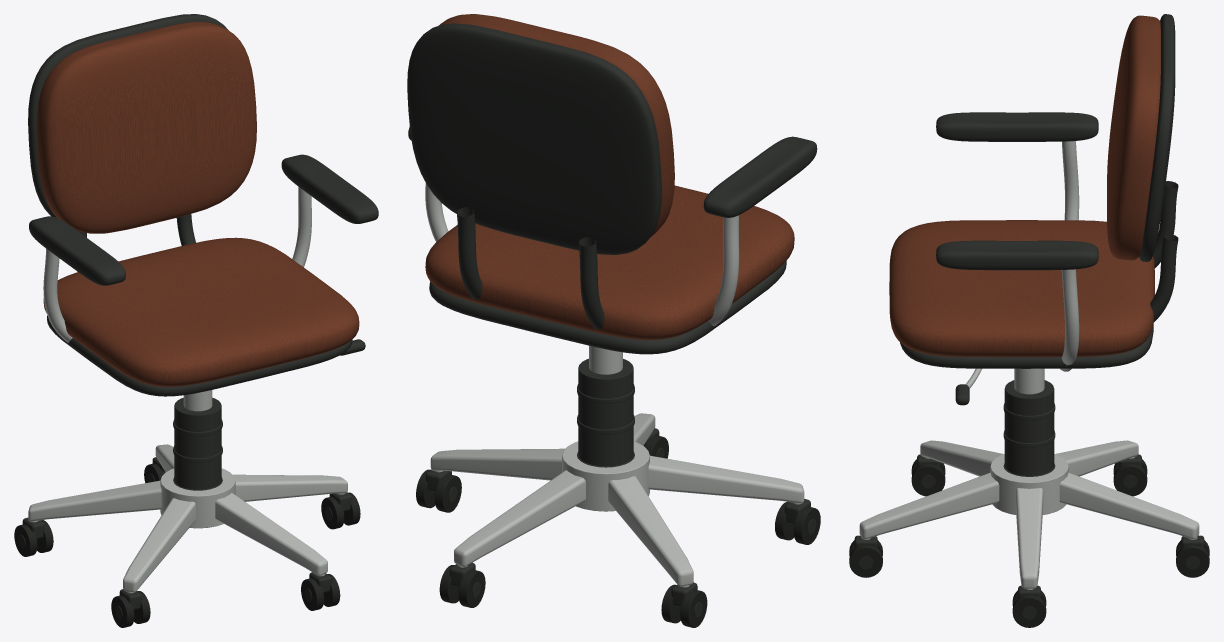
File: chair.glb
3 renders of one model, left to right at view 1: azimuth 30°, elevation 25°; view 2: azimuth 150°, elevation 25°; view 3: azimuth 270°, elevation 25°, orthographic. The views are drawn at different scales.
Parts seen in each view (by area): view 1: Upholstered backrest, Shaped upholstered seat, Column telescoping cover, Molded arm pad.001, Molded arm pad, Cast aluminum base spoke.004, Molded backrest shell, Cast aluminum base spoke.002, Molded seat shell, Cast aluminum base spoke.003, Cast aluminum base spoke, Five-star hub (+7 smaller); view 2: Molded backrest shell, Shaped upholstered seat, Upholstered backrest, Molded seat shell, Column telescoping cover, Molded arm pad, Cast aluminum base spoke.001, Cast aluminum base spoke.003, Cast aluminum base spoke.002, Cast aluminum base spoke, Five-star hub, Arm support (+9 smaller); view 3: Shaped upholstered seat, Upholstered backrest, Molded arm pad.001, Molded arm pad, Column telescoping cover, Molded backrest shell, Cast aluminum base spoke.001, Cast aluminum base spoke.004, Molded seat shell, Cast aluminum base spoke, Five-star hub, Cast aluminum base spoke.002 (+11 smaller).
Part boxes in pixels (x1,y1,x2,y2): Upholstered backrest: (36, 21, 256, 233); Shaped upholstered seat: (43, 237, 359, 386); Column telescoping cover: (174, 397, 221, 489); Molded arm pad.001: (281, 154, 378, 223); Molded arm pad: (29, 216, 125, 285); Cast aluminum base spoke.004: (215, 493, 327, 575); Molded backrest shell: (28, 14, 228, 217); Cast aluminum base spoke.002: (28, 480, 161, 521); Molded seat shell: (47, 315, 352, 396); Cast aluminum base spoke.003: (123, 498, 195, 592); Cast aluminum base spoke: (233, 474, 347, 501); Five-star hub: (160, 468, 235, 528); Molded backrest shell: (407, 23, 661, 254); Shaped upholstered seat: (425, 185, 794, 339); Upholstered backrest: (439, 14, 674, 236); Molded seat shell: (429, 261, 786, 354); Column telescoping cover: (578, 358, 633, 466); Molded arm pad: (703, 136, 817, 217); Cast aluminum base spoke.001: (454, 470, 585, 566); Cast aluminum base spoke.003: (648, 455, 804, 503); Cast aluminum base spoke.002: (608, 476, 693, 586); Cast aluminum base spoke: (430, 448, 564, 480); Five-star hub: (562, 441, 649, 511); Arm support: (708, 215, 739, 326); Shaped upholstered seat: (889, 220, 1154, 357); Upholstered backrest: (1107, 15, 1160, 260); Molded arm pad.001: (936, 240, 1098, 270); Molded arm pad: (936, 112, 1098, 141); Column telescoping cover: (1004, 380, 1054, 475); Molded backrest shell: (1139, 14, 1175, 261); Cast aluminum base spoke.001: (1059, 472, 1199, 539); Cast aluminum base spoke.004: (859, 472, 999, 539); Molded seat shell: (900, 324, 1153, 368); Cast aluminum base spoke: (1015, 488, 1043, 588); Five-star hub: (990, 454, 1068, 514); Cast aluminum base spoke.002: (1056, 440, 1138, 476).
Bounding box in the file's own units: 0.5917 × 0.9241 × 0.5981.
4 materials, 1 textured.
